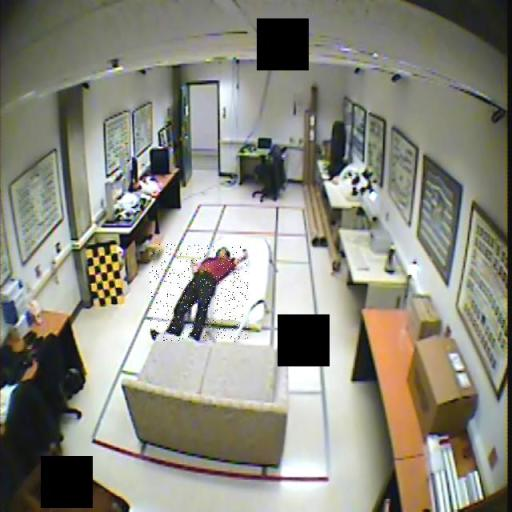Fall: (150, 244, 248, 342)
